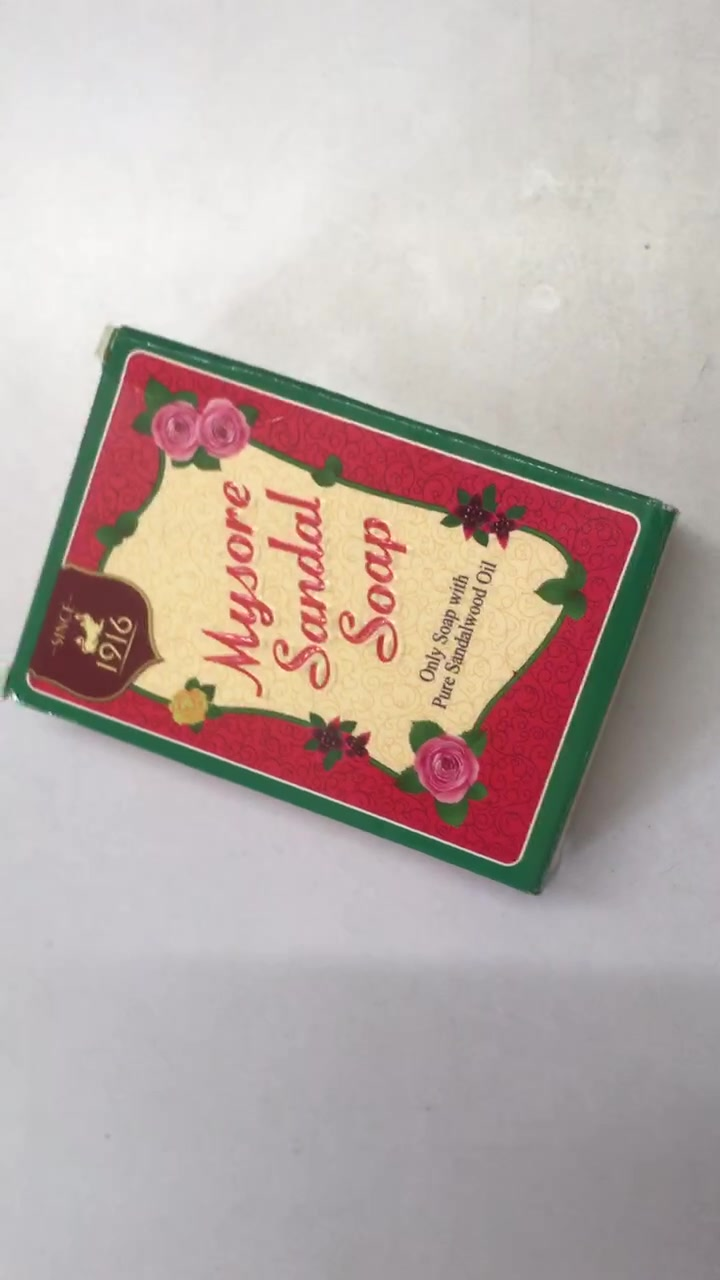mysore sandal soap: (13, 332, 670, 900)
